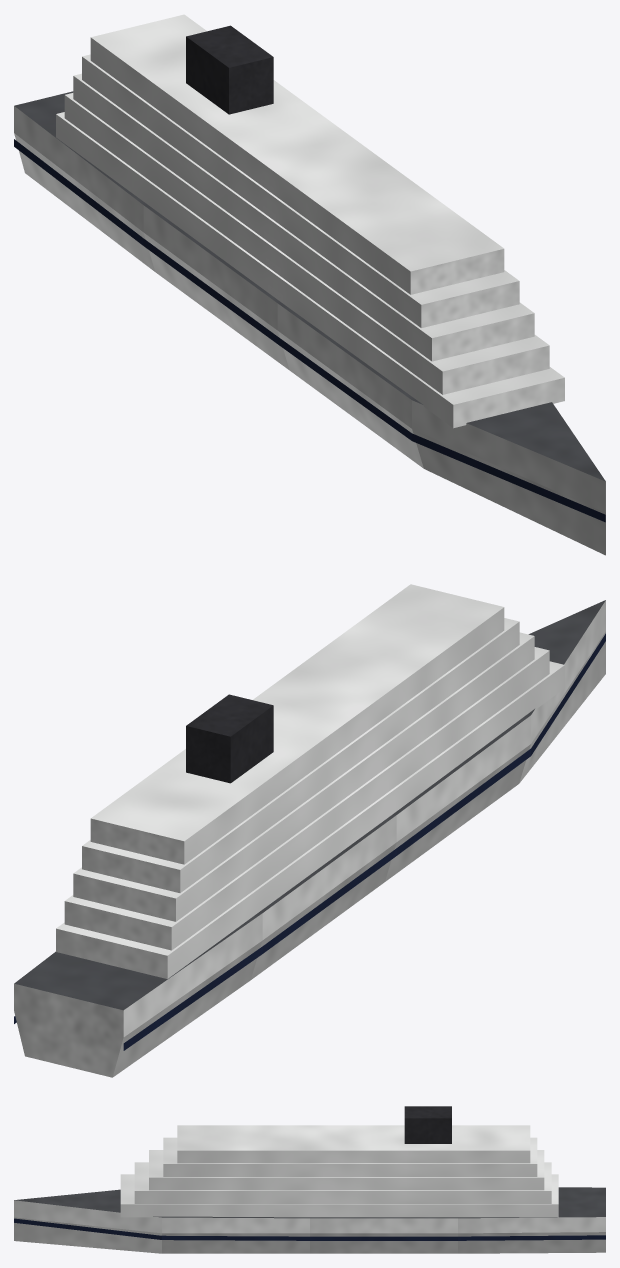
File: SM_MoloItalia_NaveCrociera_LOD2.fbx
3 renders of one model, top to bottom at view 1: azimuth 30°, elevation 25°; view 2: azimuth 150°, elevation 25°; view 3: azimuth 270°, elevation 25°, orthographic. The views are drawn at different scales.
Parts seen in each view (by area): view 1: SM_MoloItalia_NaveCrociera_LOD2; view 2: SM_MoloItalia_NaveCrociera_LOD2; view 3: SM_MoloItalia_NaveCrociera_LOD2.
Part boxes in pixels (bbox=[...]): SM_MoloItalia_NaveCrociera_LOD2: bbox=[14, 14, 605, 555]; SM_MoloItalia_NaveCrociera_LOD2: bbox=[14, 584, 605, 1077]; SM_MoloItalia_NaveCrociera_LOD2: bbox=[14, 1106, 605, 1253].
Bounding box in the file's own units: 3202 × 25000 × 6000.
1 material, 1 textured.
